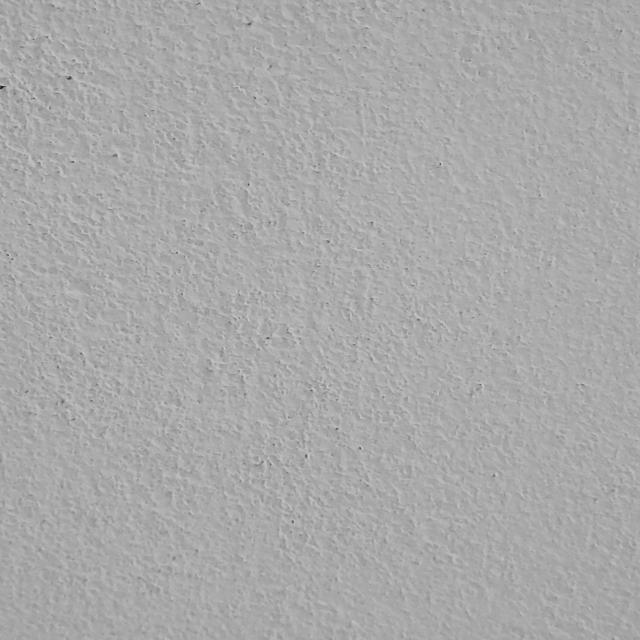rough and patchy surface: (13, 4, 635, 633)
